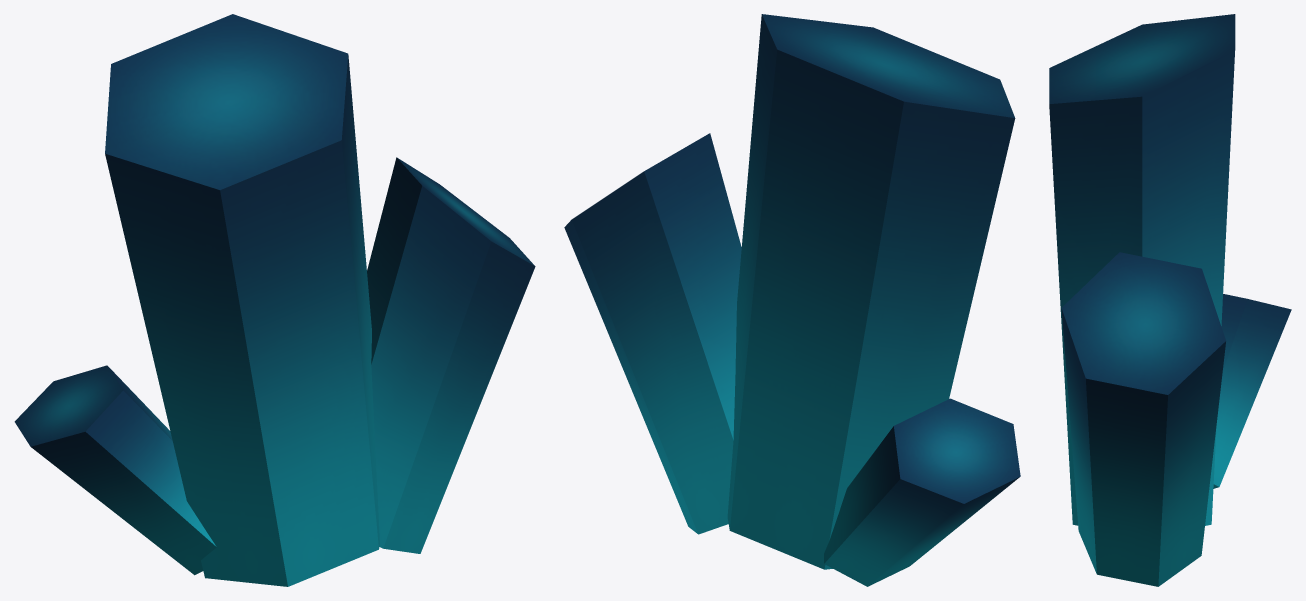
The model's file is crystal_01.fbx.
3 renders of one model, left to right at view 1: azimuth 30°, elevation 25°; view 2: azimuth 150°, elevation 25°; view 3: azimuth 270°, elevation 25°, orthographic. The views are drawn at different scales.
Visible parts, largest first — view 1: pCylinder15, pCylinder16, pCylinder17; view 2: pCylinder15, pCylinder16, pCylinder17; view 3: pCylinder15, pCylinder16, pCylinder17.
Boxes of the visible parts, x1,y1,x2,y2 form: pCylinder15: (105,14,379,586); pCylinder16: (367,157,535,553); pCylinder17: (14,365,216,575); pCylinder15: (727,14,1015,569); pCylinder16: (564,133,741,534); pCylinder17: (824,398,1020,586); pCylinder15: (1049,14,1235,525); pCylinder16: (1061,252,1225,586); pCylinder17: (1213,294,1291,488).
Bounding box in the file's own units: 1.35 × 1.46 × 0.6706.
